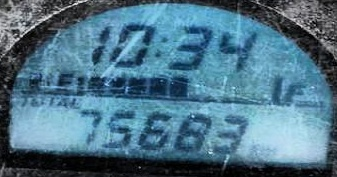0: (109, 22, 154, 67)
1: (88, 26, 110, 65), (270, 76, 283, 103)
3: (168, 25, 212, 70), (211, 114, 246, 152)
4: (216, 30, 256, 72)
5: (101, 110, 134, 148)
6: (137, 113, 172, 149)
7: (74, 109, 102, 145)
8: (171, 113, 210, 151)
X: (282, 84, 305, 102), (151, 35, 167, 59), (55, 72, 71, 90), (45, 95, 58, 107), (18, 94, 31, 106), (68, 96, 80, 108), (32, 95, 45, 106), (56, 98, 67, 107)
